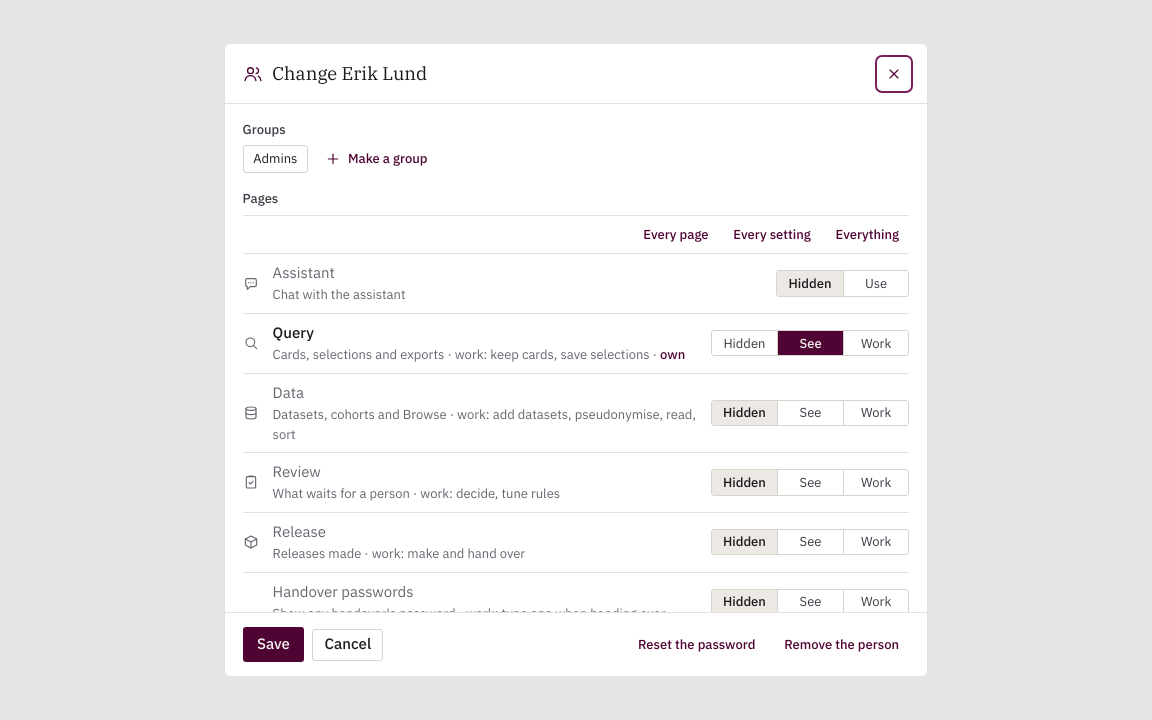
it: an admin's lines on another person › says plainly when the desk refuses to leave nobody who may change people
This screenshot has width=1152, height=720.
Click the button "Remove the person" at (842, 645), box [774,631,910,658]
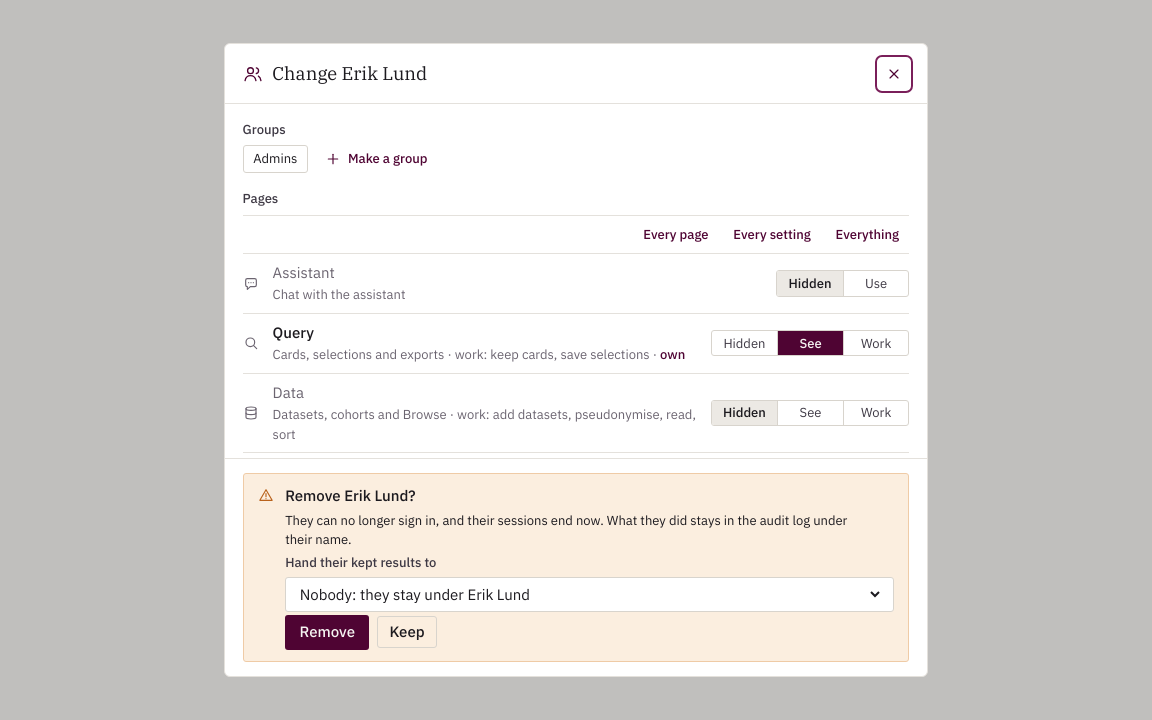
expect the label "Hand their kept results to" is shown: met, box [285,554,436,571]
Select "Nobody: they stay under Erik Lund" in the dropdown labelled "Hand their kept results to" at (590, 594), box [296,578,884,611]
expect the button "Remove" is shown: met
Click the button "Remove" at (327, 632), box [285,615,369,650]
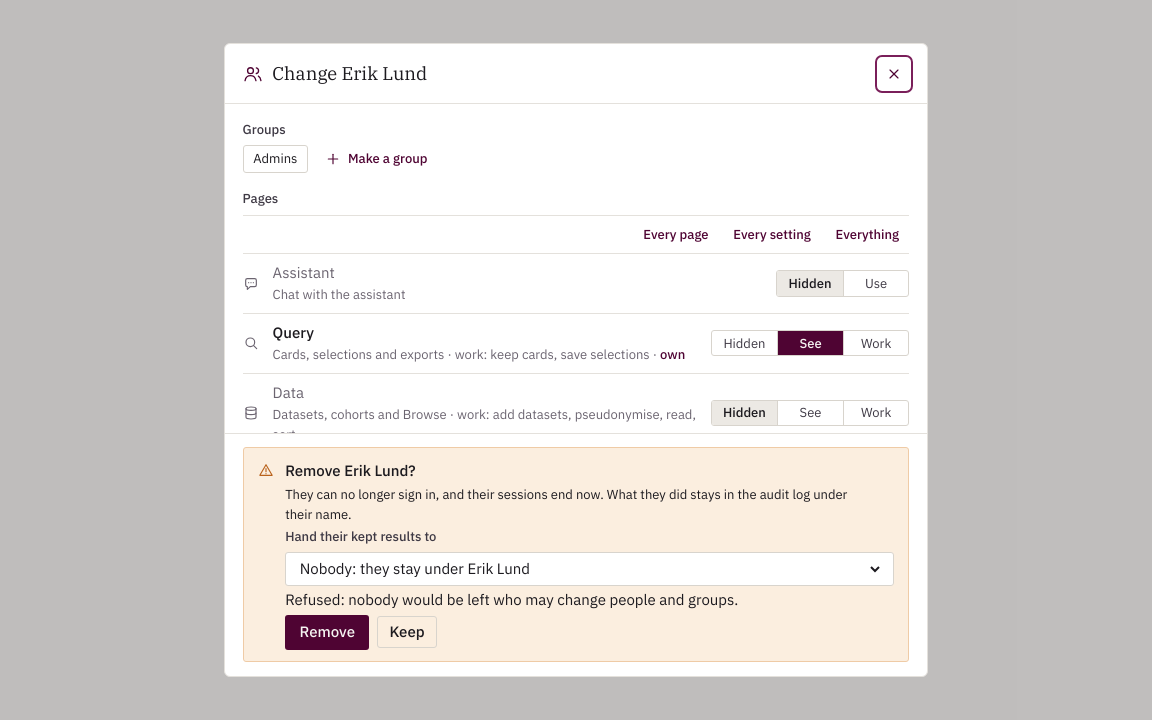
expect the text "Refused: nobody would be left who may change people and groups." is shown: met, box [285,590,738,609]
